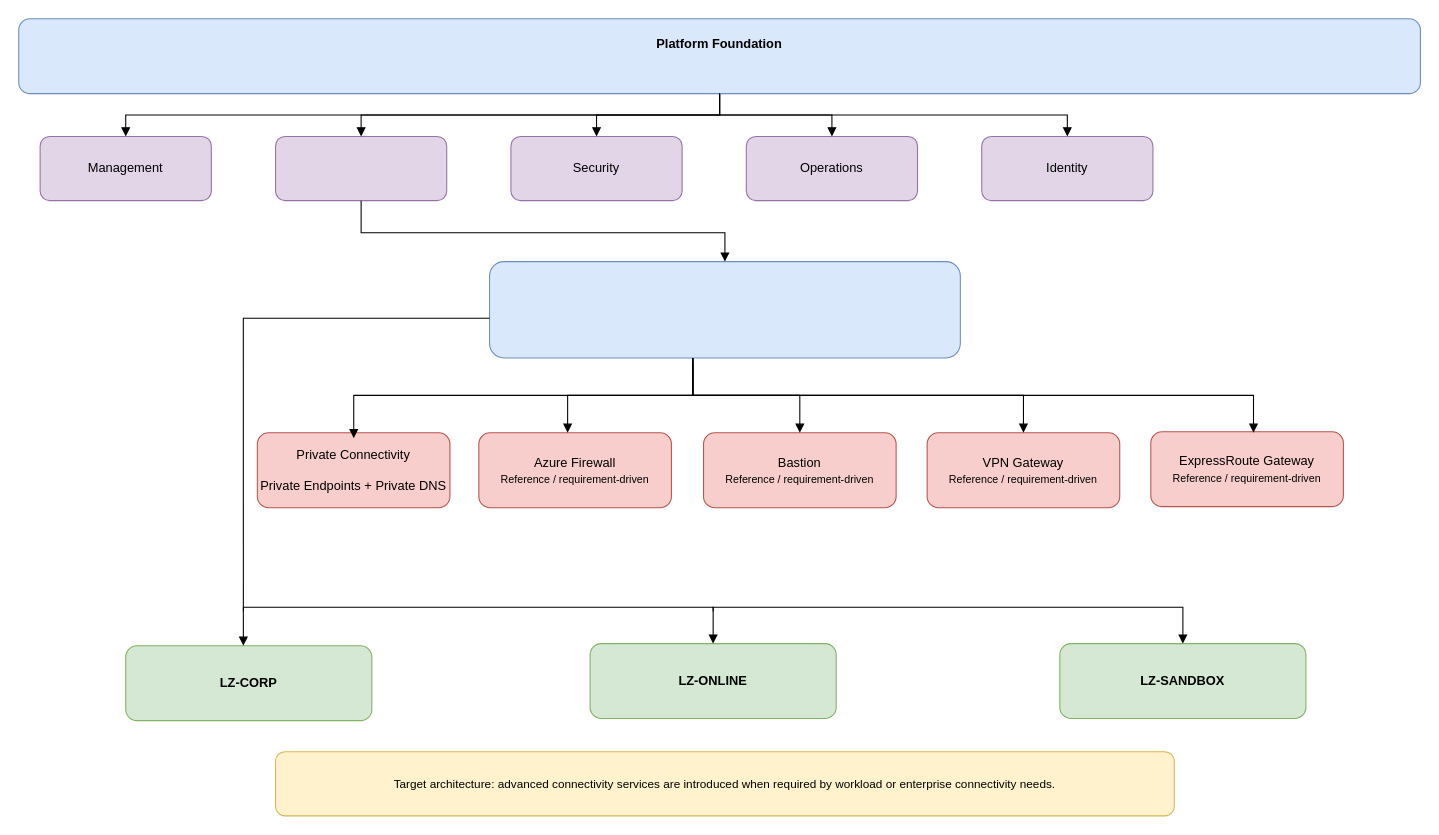
Some shapes in this 1439 by 835 pixel diagram are drawn without their labels. The shapes that lost their labels are listed below. From the top down, each one's box as (x1, y1, x2, y2) in pixels, then its label:
(274, 135, 447, 201): Connectivity
(488, 261, 960, 358): Hub VNet Central connectivity boundary
